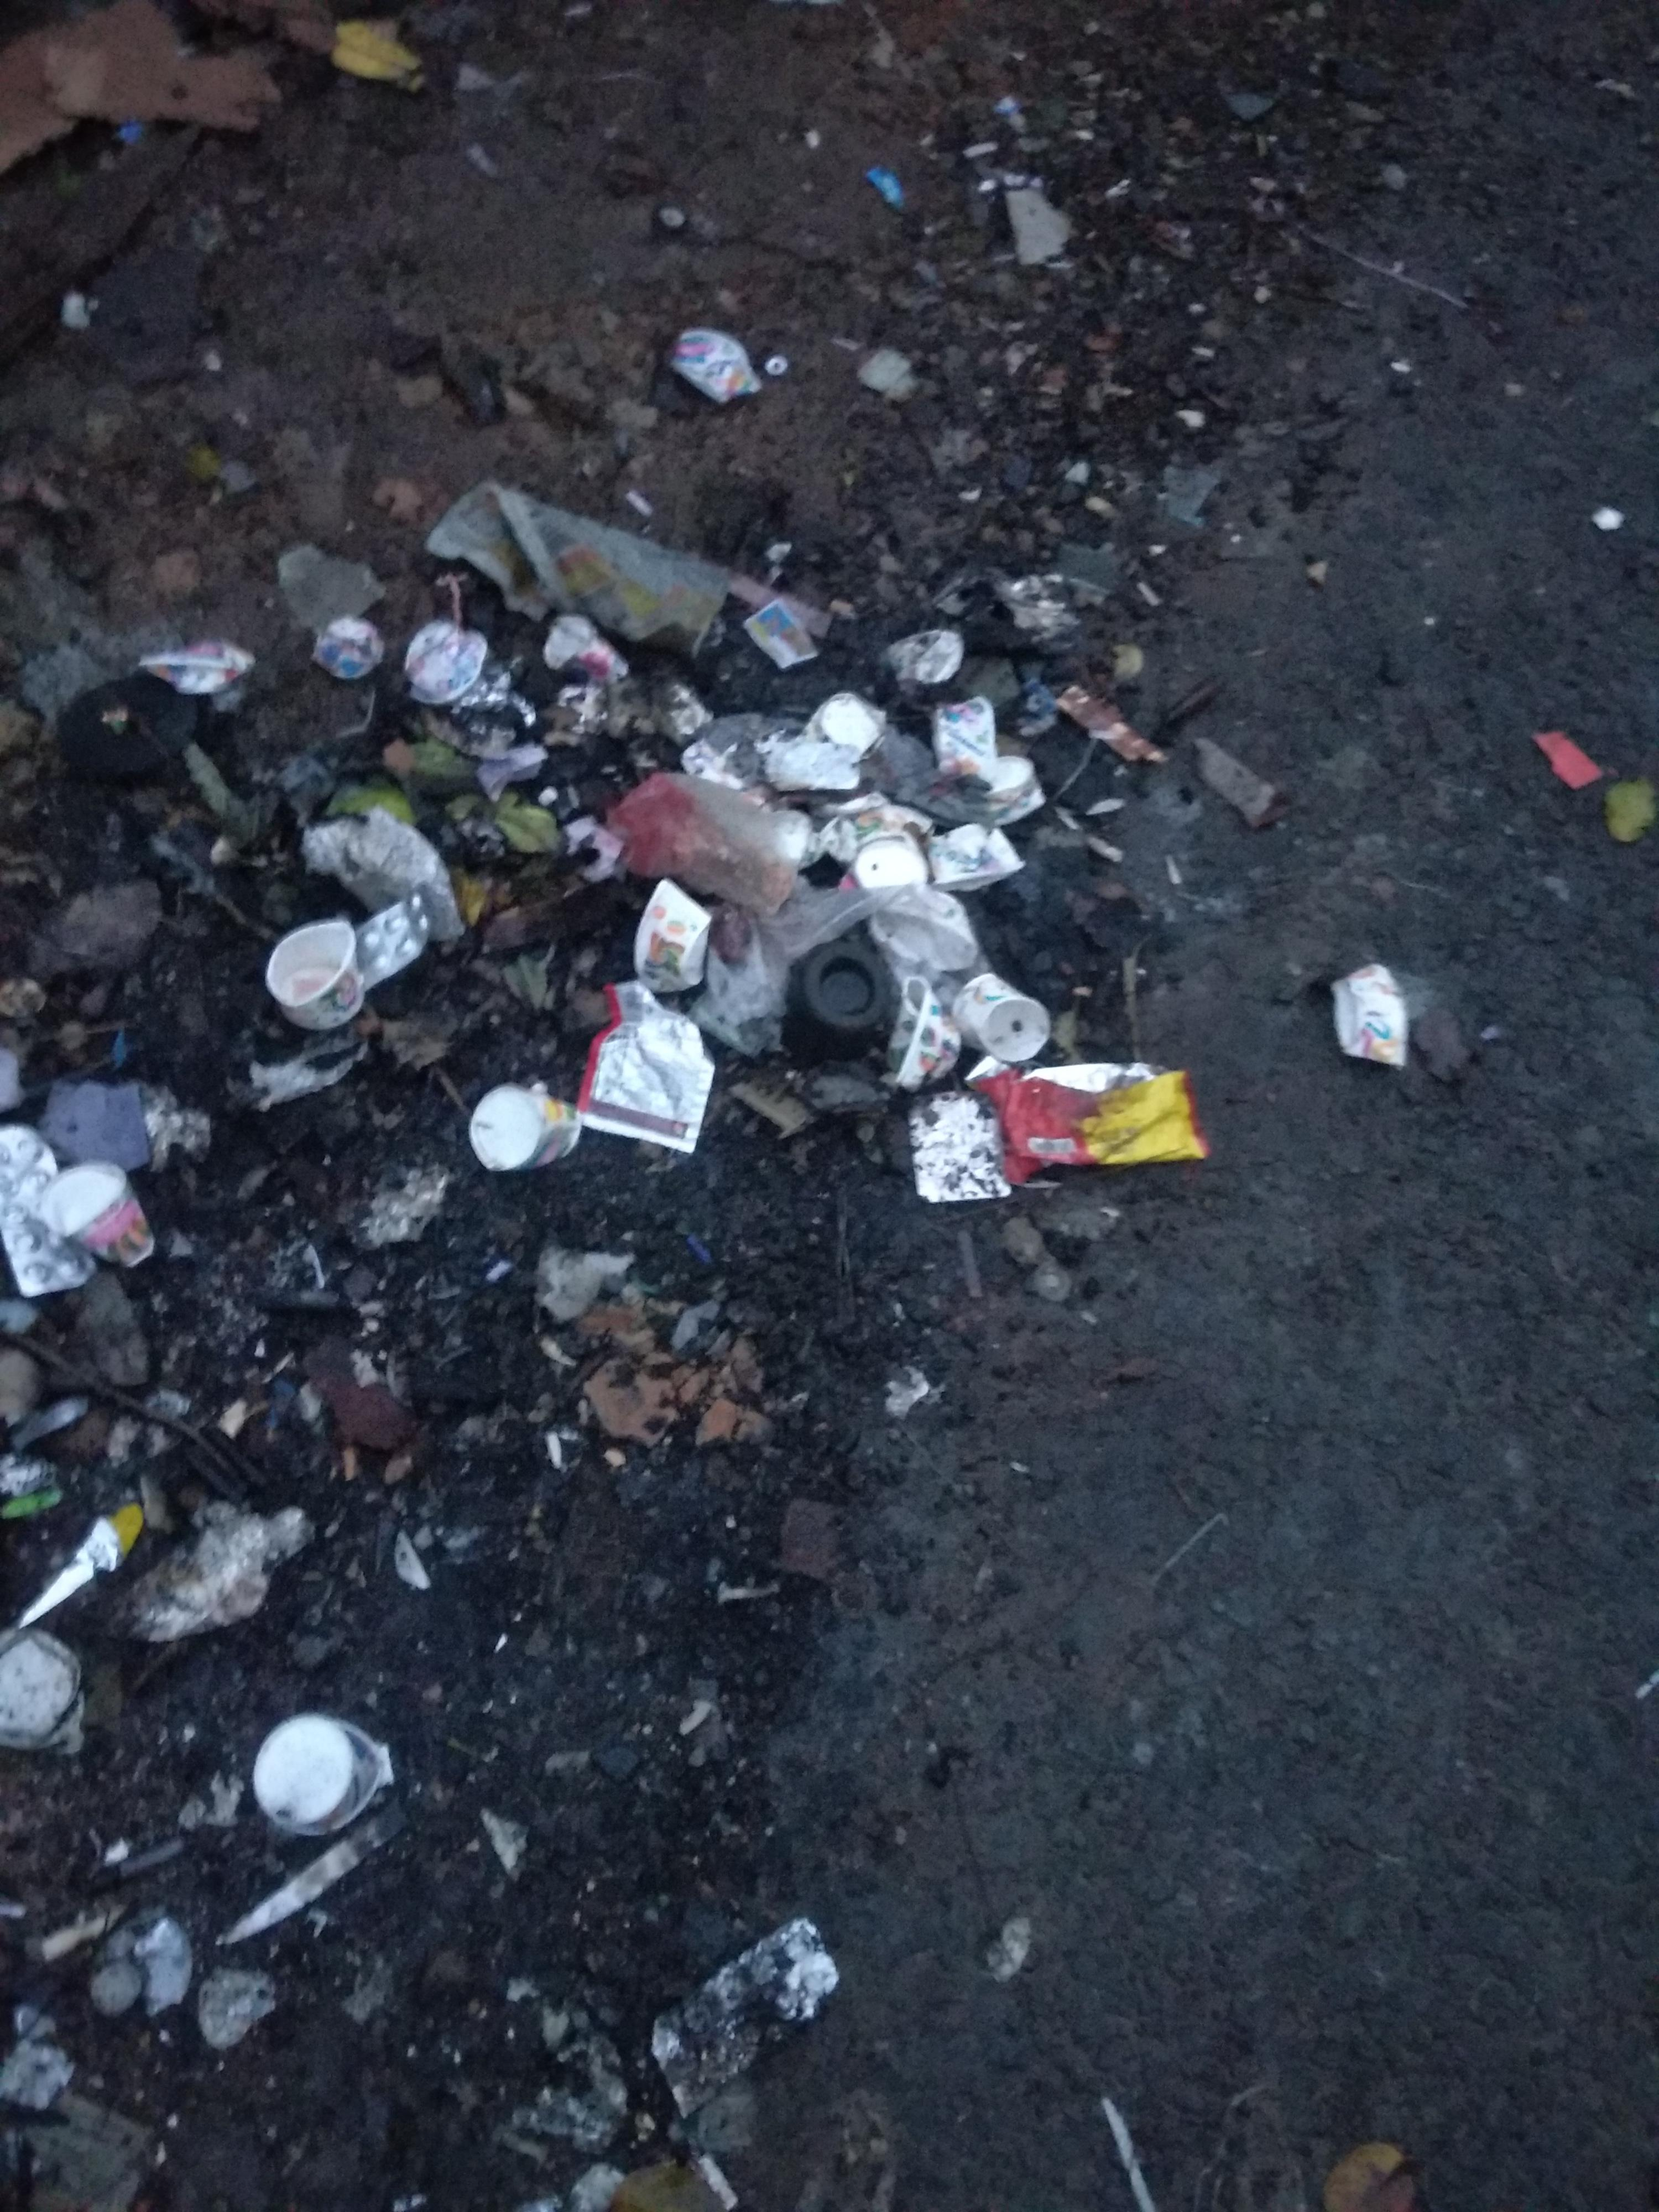trash: (0, 460, 1236, 1836)
